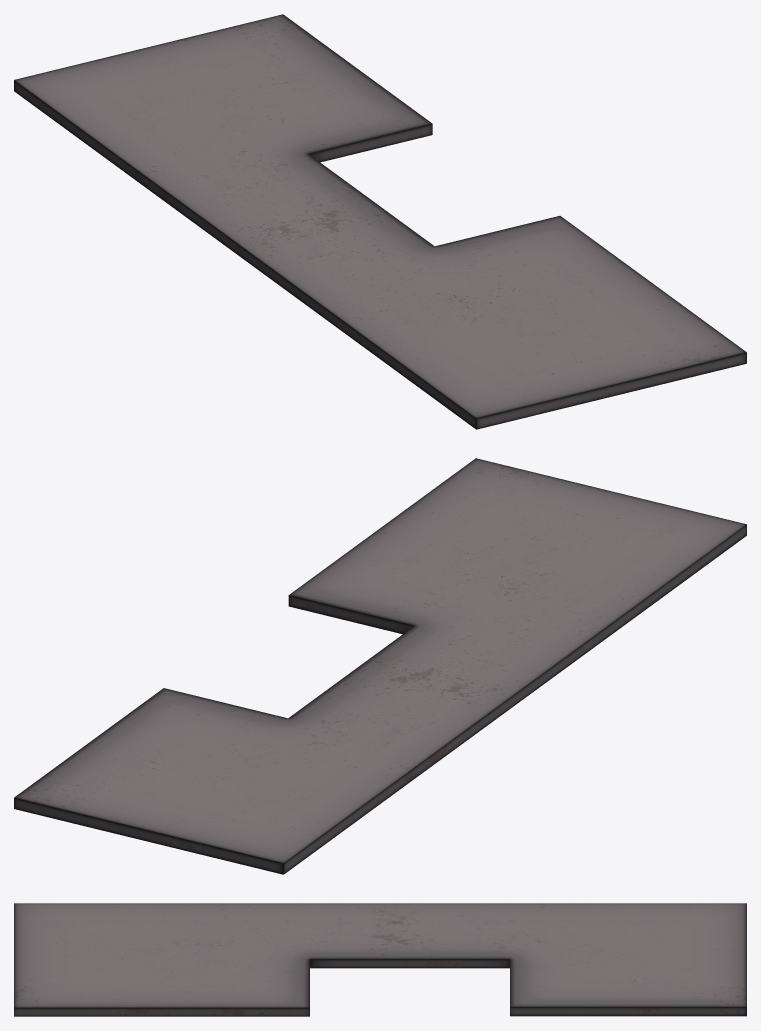
File: Factory_SecondFloorGround_Outside.fbx
The picture shows the model from 3 angles, top to bottom: view 1: azimuth 30°, elevation 25°; view 2: azimuth 150°, elevation 25°; view 3: azimuth 270°, elevation 25°; orthographic projection. The views are drawn at different scales.
Parts seen in each view (by area): view 1: Plane.032; view 2: Plane.032; view 3: Plane.032.
Boxes of the visible parts, x1,y1,x2,y2 form: Plane.032: (14, 14, 746, 429); Plane.032: (14, 458, 746, 874); Plane.032: (14, 903, 746, 1016).
Bounding box in the file's own units: 675 × 26.91 × 1997.
1 material, 1 textured.
